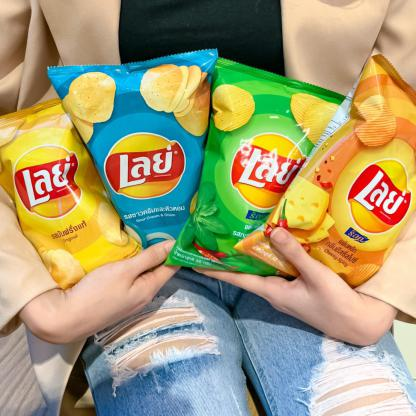potatochip: (230, 40, 416, 310), (160, 52, 361, 296), (43, 42, 224, 268), (0, 83, 150, 295)
